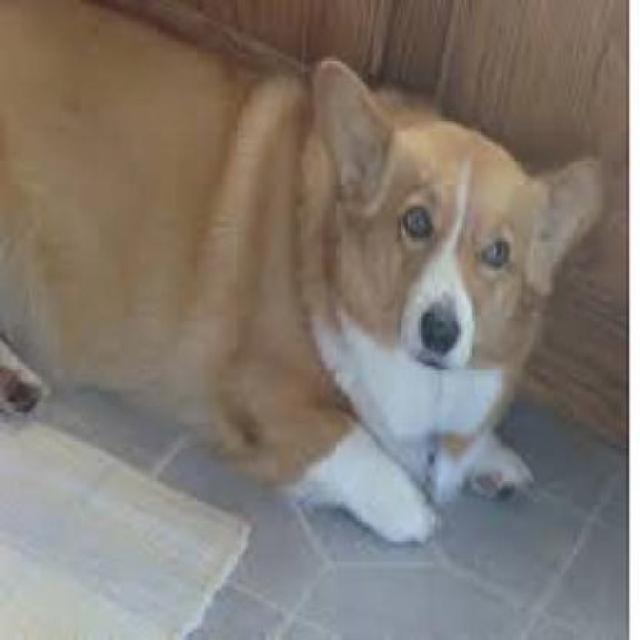Dog: (0, 0, 609, 548)
